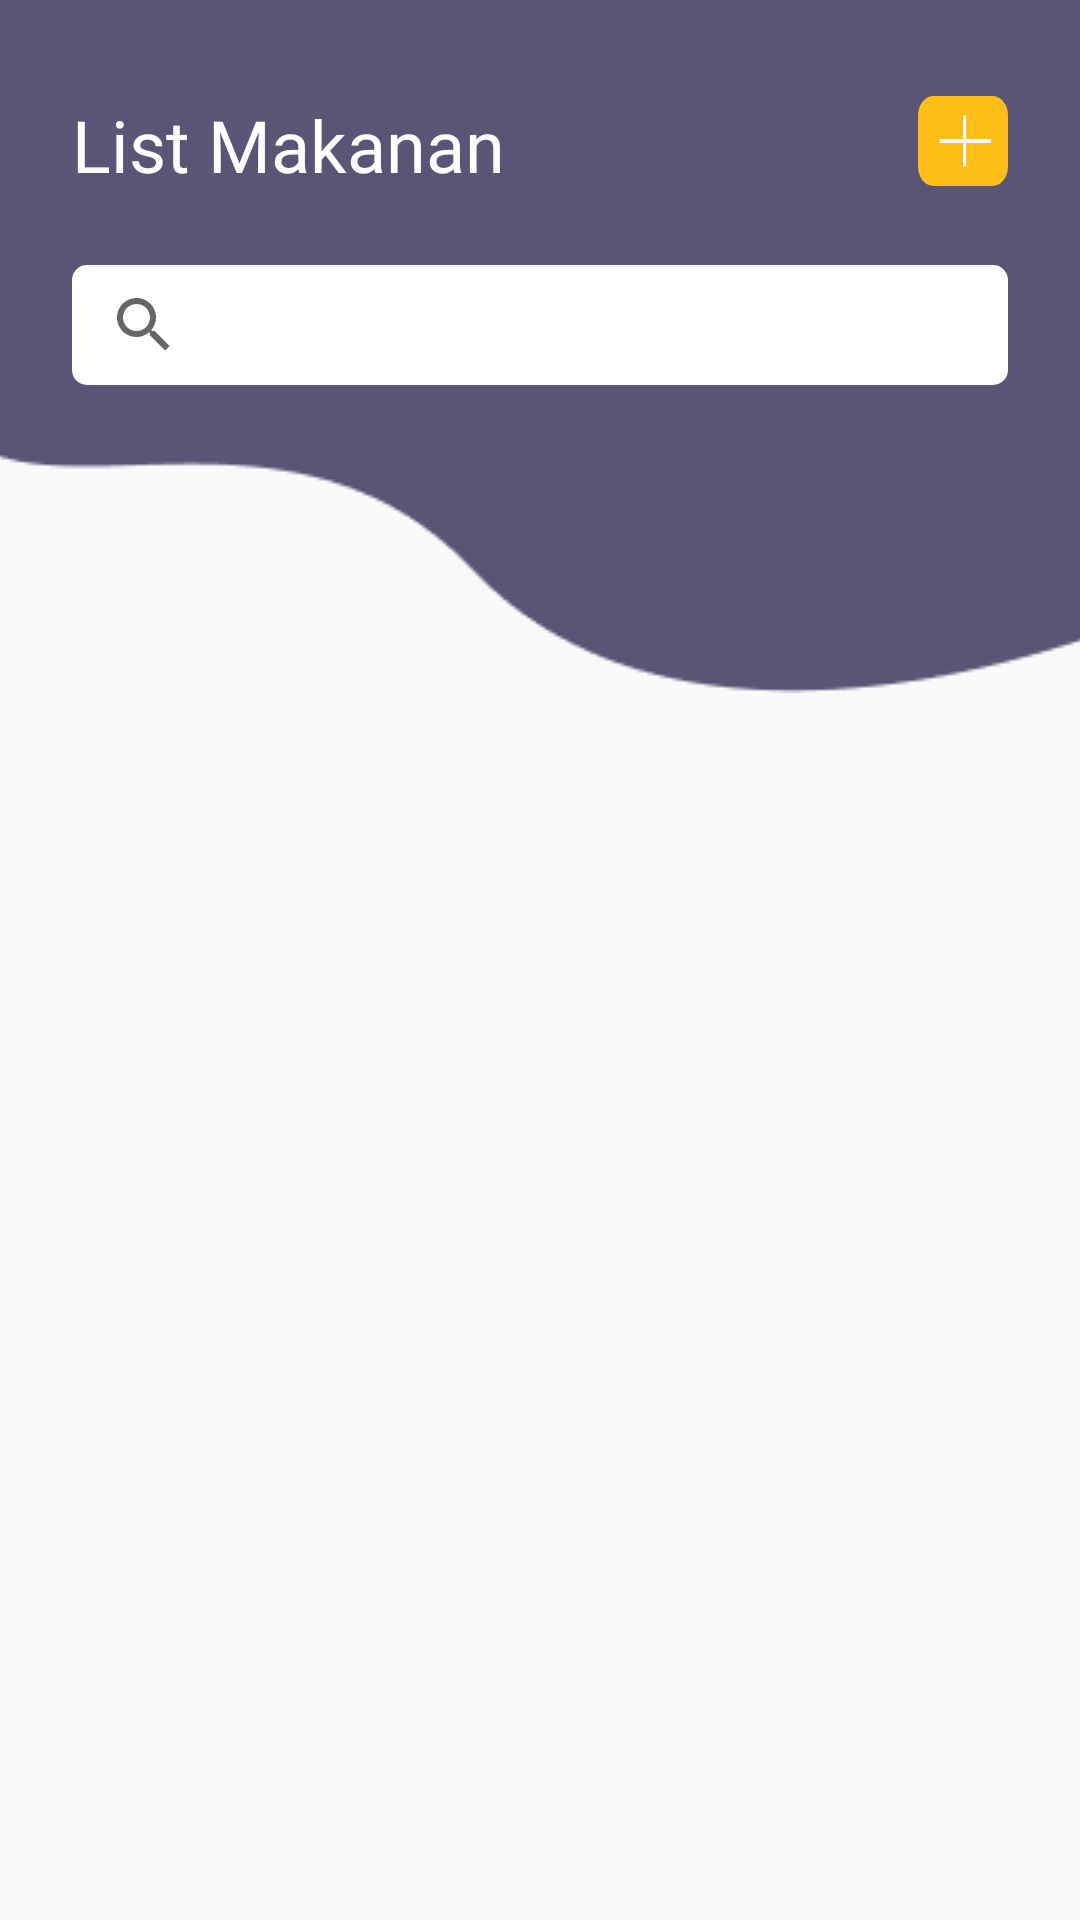

Locate icon controls on the screen. Image size 1080px×1920px, boxes as {"left": x1, "top": y1, "right": x2, "bottom": y2}.
add: {"left": 918, "top": 96, "right": 1008, "bottom": 186}
